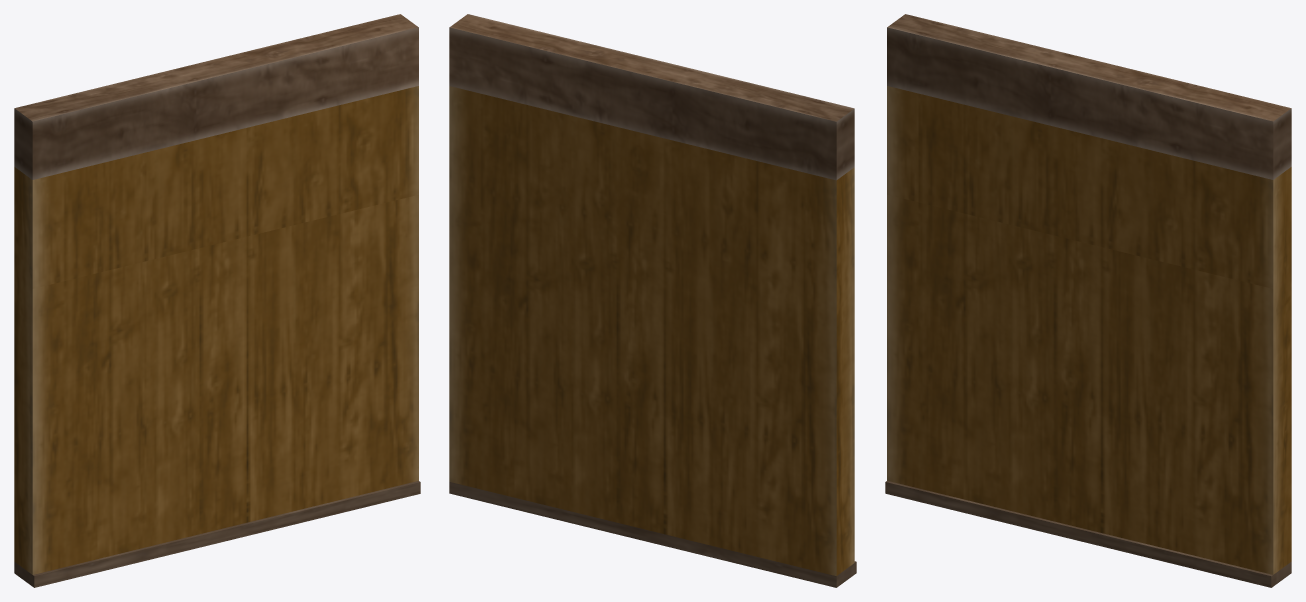
The model's file is kitcentop01b.fbx.
3 views of the same model, side by side, from view 1: azimuth 30°, elevation 25°; view 2: azimuth 150°, elevation 25°; view 3: azimuth 330°, elevation 25° (orthographic).
Visible parts, largest first — view 1: kitcentop01b; view 2: kitcentop01b; view 3: kitcentop01b.
Boxes of the visible parts, x1,y1,x2,y2 form: kitcentop01b: (14,14,420,587); kitcentop01b: (449,14,856,587); kitcentop01b: (885,14,1291,587).
Size of the model in its own units: 0.927 by 1.07 by 0.0834.
